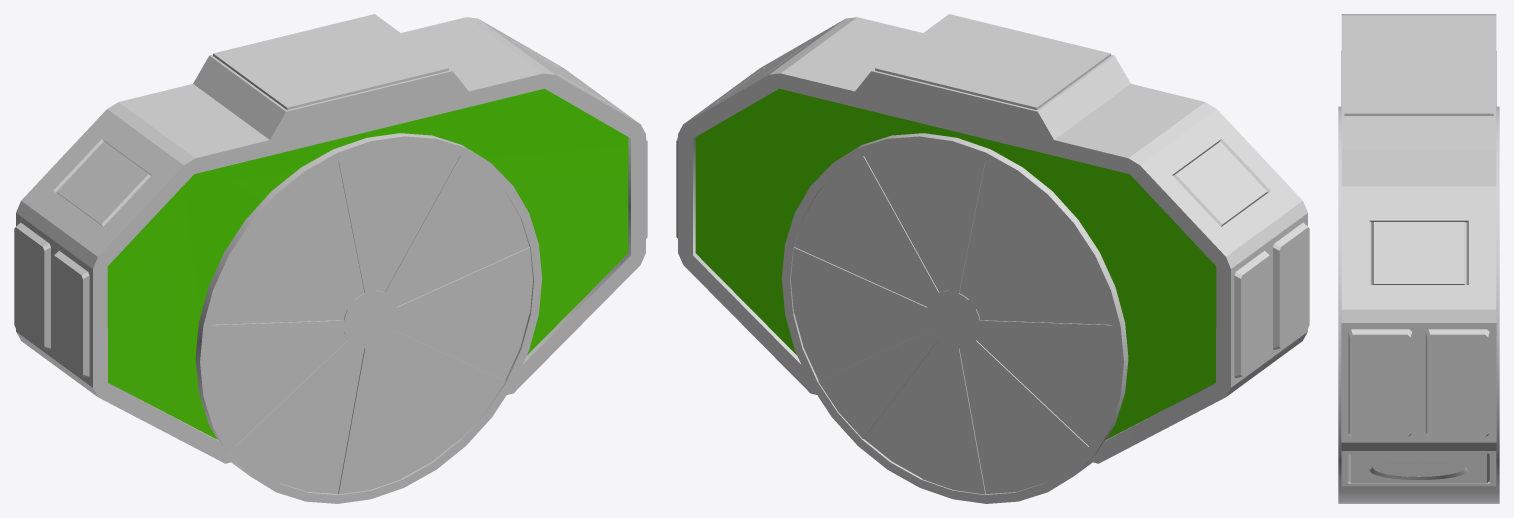
Rendered from KeepOnTruckin_vtol.fbx.
The picture shows the model from 3 angles, left to right: view 1: azimuth 30°, elevation 25°; view 2: azimuth 150°, elevation 25°; view 3: azimuth 270°, elevation 25°; orthographic projection.
Visible parts, largest first — view 1: Main Body, Hatch Tube; view 2: Main Body, Hatch Tube; view 3: Main Body, Hatch Tube, Door1Frame, Door1.
Boxes of the visible parts, x1,y1,x2,y2 form: Main Body: (14, 14, 647, 463); Hatch Tube: (195, 133, 542, 503); Main Body: (676, 14, 1309, 463); Hatch Tube: (781, 133, 1128, 503); Main Body: (1341, 14, 1496, 486); Hatch Tube: (1338, 106, 1499, 503); Door1Frame: (1348, 453, 1489, 483); Door1: (1373, 460, 1464, 476).
Size of the model in its own units: 240 by 166 by 59.14.
